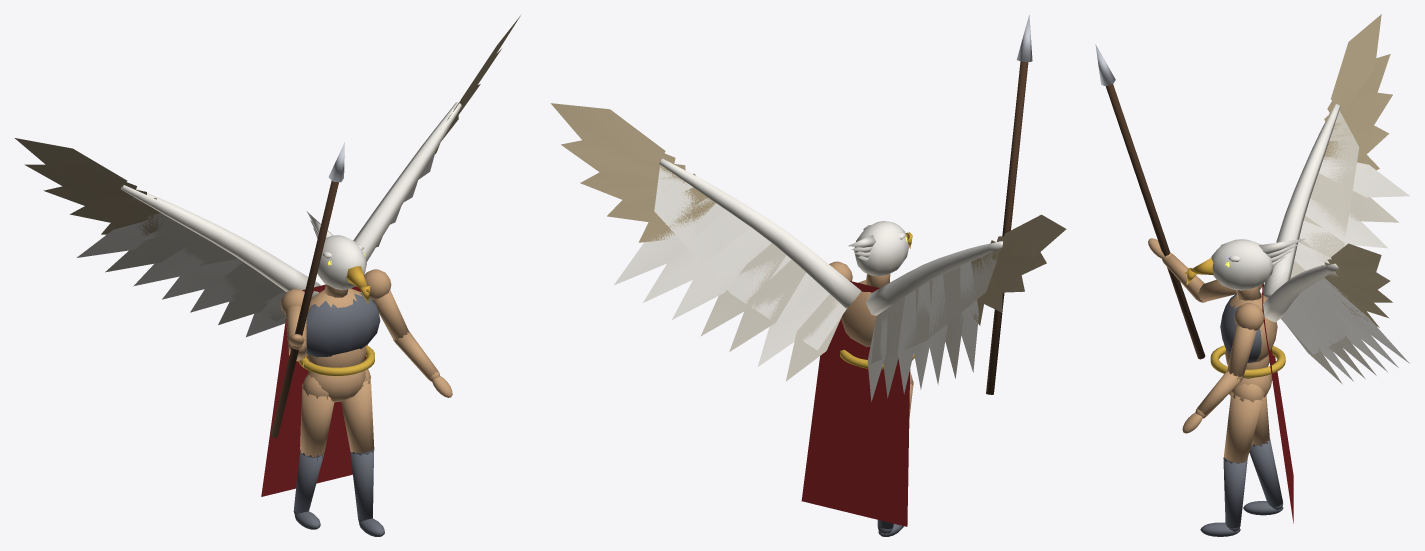
File: aquilon.glb
3 views of the same model, side by side, from view 1: azimuth 30°, elevation 25°; view 2: azimuth 150°, elevation 25°; view 3: azimuth 270°, elevation 25° (orthographic). The views are drawn at different scales.
Parts seen in each view (by area): view 1: wing_R, torso, wing_L, hand_R, head, thigh_R, thigh_L, upperarm_L, shin_L, shin_R, pelvis, upperarm_R (+1 smaller); view 2: wing_L, torso, wing_R, hand_R, head; view 3: wing_R, wing_L, torso, head, hand_R, thigh_L, upperarm_L, shin_L, shin_R, forearm_L, forearm_R, upperarm_R (+3 smaller).
Part boxes in pixels (<box>): wing_R: <box>15,138,320,337</box>; torso: <box>261,284,380,496</box>; wing_L: <box>353,15,520,261</box>; hand_R: <box>270,142,344,437</box>; head: <box>306,211,370,303</box>; thigh_R: <box>300,375,334,457</box>; thigh_L: <box>341,369,374,453</box>; upperarm_L: <box>364,269,409,342</box>; shin_L: <box>350,449,374,522</box>; shin_R: <box>293,450,323,514</box>; pelvis: <box>307,370,365,402</box>; upperarm_R: <box>280,289,311,351</box>; wing_L: <box>550,103,861,381</box>; torso: <box>801,274,914,526</box>; wing_R: <box>865,214,1066,401</box>; hand_R: <box>986,15,1032,394</box>; head: <box>848,221,912,276</box>; wing_R: <box>1261,14,1409,298</box>; wing_L: <box>1261,243,1409,384</box>; torso: <box>1210,283,1293,523</box>; head: <box>1184,238,1305,290</box>; hand_R: <box>1095,44,1205,359</box>; thigh_L: <box>1224,383,1265,463</box>; upperarm_L: <box>1227,302,1264,377</box>; shin_L: <box>1223,457,1247,531</box>; shin_R: <box>1249,437,1283,509</box>; forearm_L: <box>1195,371,1242,418</box>; forearm_R: <box>1162,252,1205,302</box>; upperarm_R: <box>1197,279,1262,301</box>.
Size of the model in its own units: 4.39 by 3.81 by 2.42.
